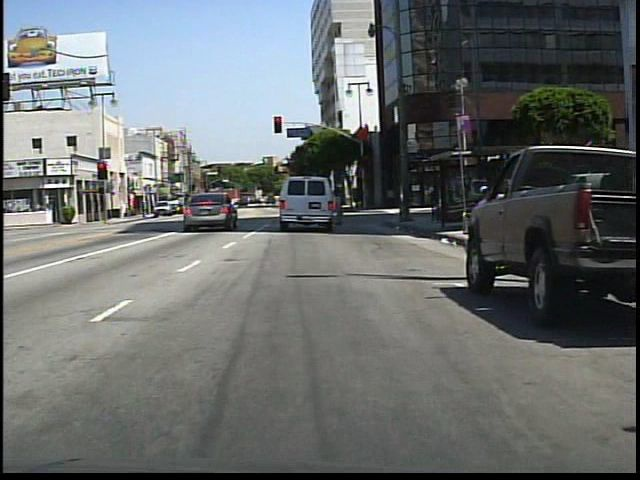person: (326, 182, 348, 225), (203, 193, 218, 218)
